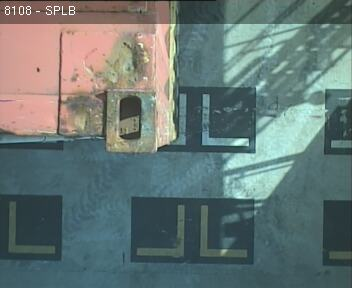groundmarker_1: (135, 203, 247, 259), (168, 94, 248, 146)
